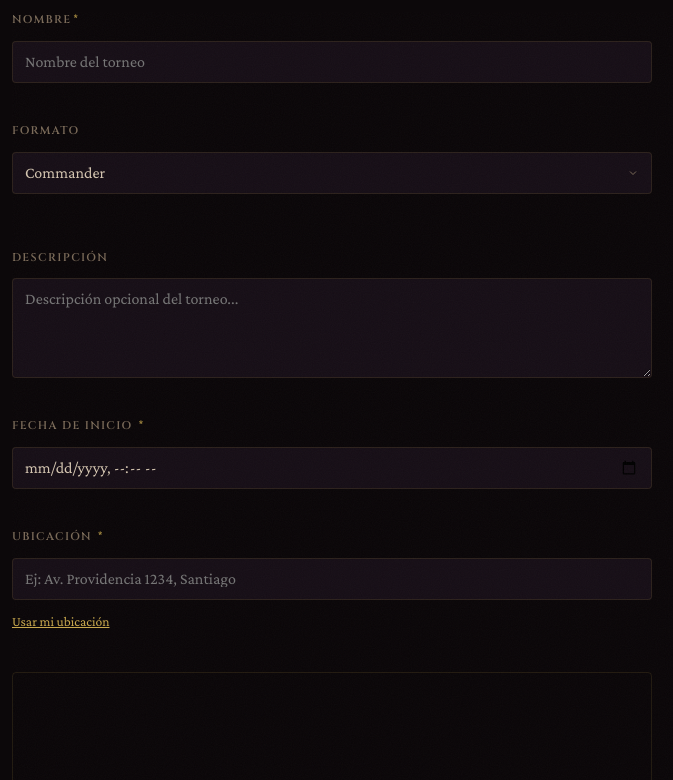
it: FormularioTorneo › usa la geolocalización y rellena la ubicación
Click the button "Usar mi ubicación": x=61, y=621 [12,612,652,632]
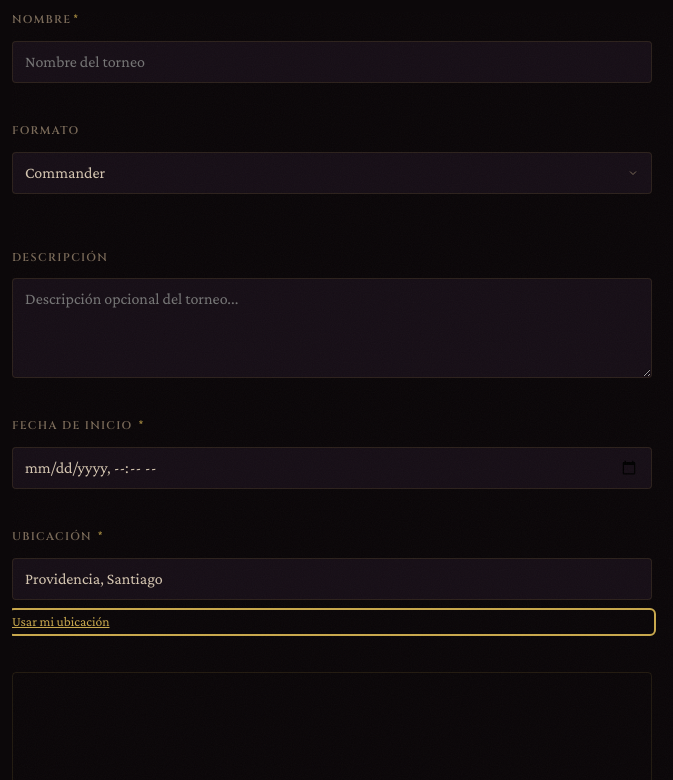
Now the field showing "Providencia, Santiago" is shown, box [12,558,652,600]
